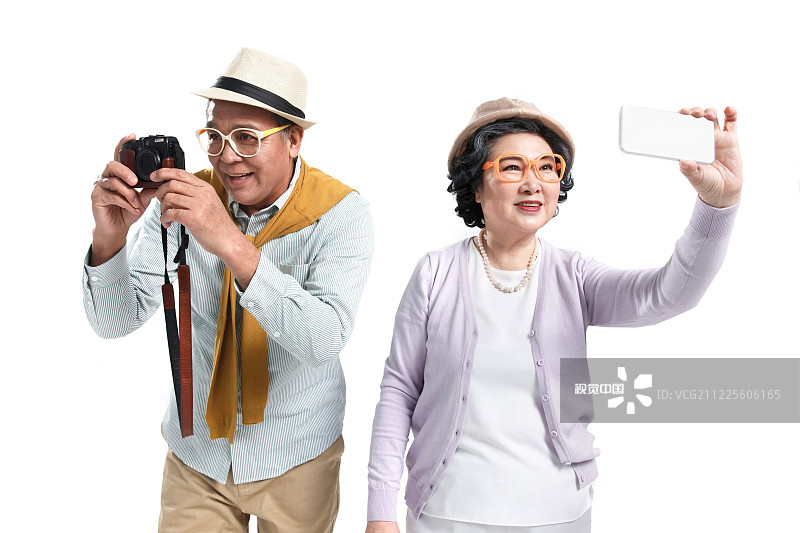taking photos: (599, 79, 756, 217)
